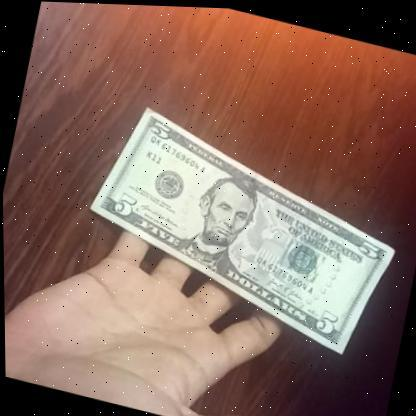five-front: (68, 95, 414, 364)
